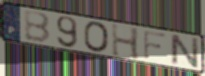9: (55, 15, 79, 49)
B: (23, 10, 52, 45)
F: (143, 29, 169, 62)
H: (110, 22, 142, 62)
N: (169, 33, 200, 70)
O: (82, 21, 110, 54)
